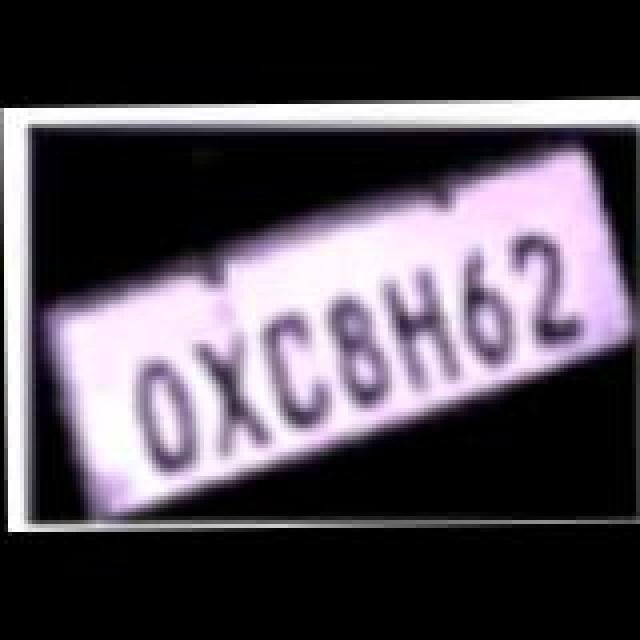2: (488, 226, 600, 354)
6: (436, 246, 532, 374)
8: (310, 290, 410, 414)
C: (242, 314, 350, 438)
H: (366, 266, 474, 398)
O: (114, 354, 214, 482)
X: (176, 338, 288, 466)
